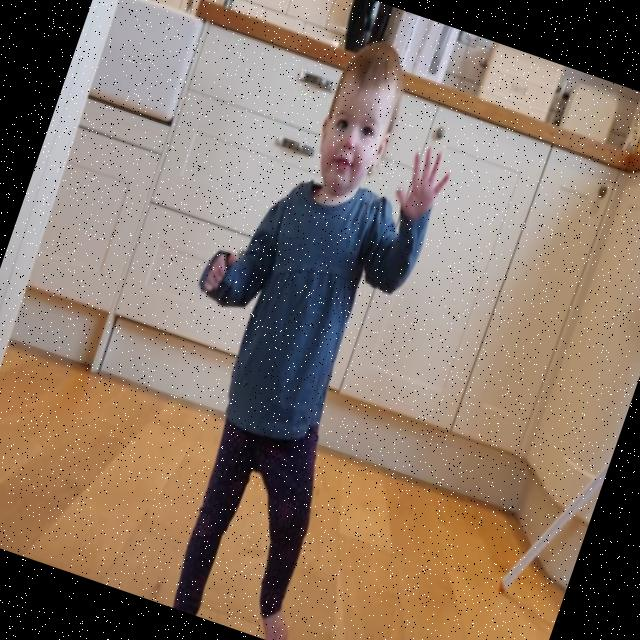Person: (97, 11, 485, 640)
